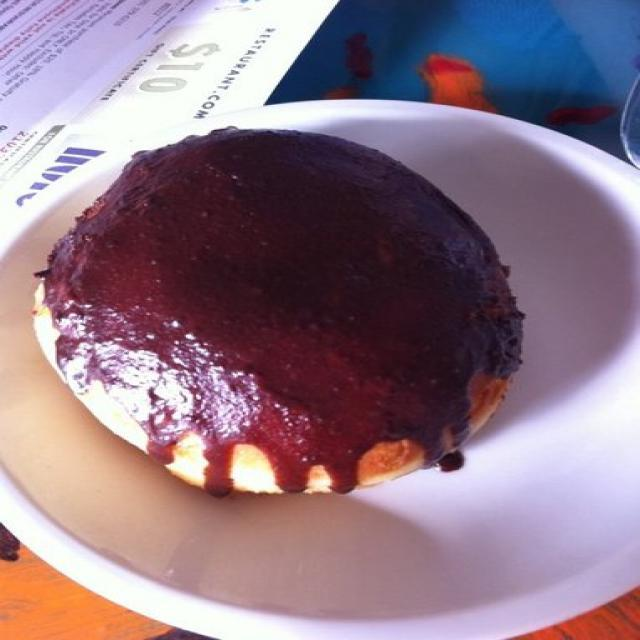Donuts: (39, 124, 531, 509)
